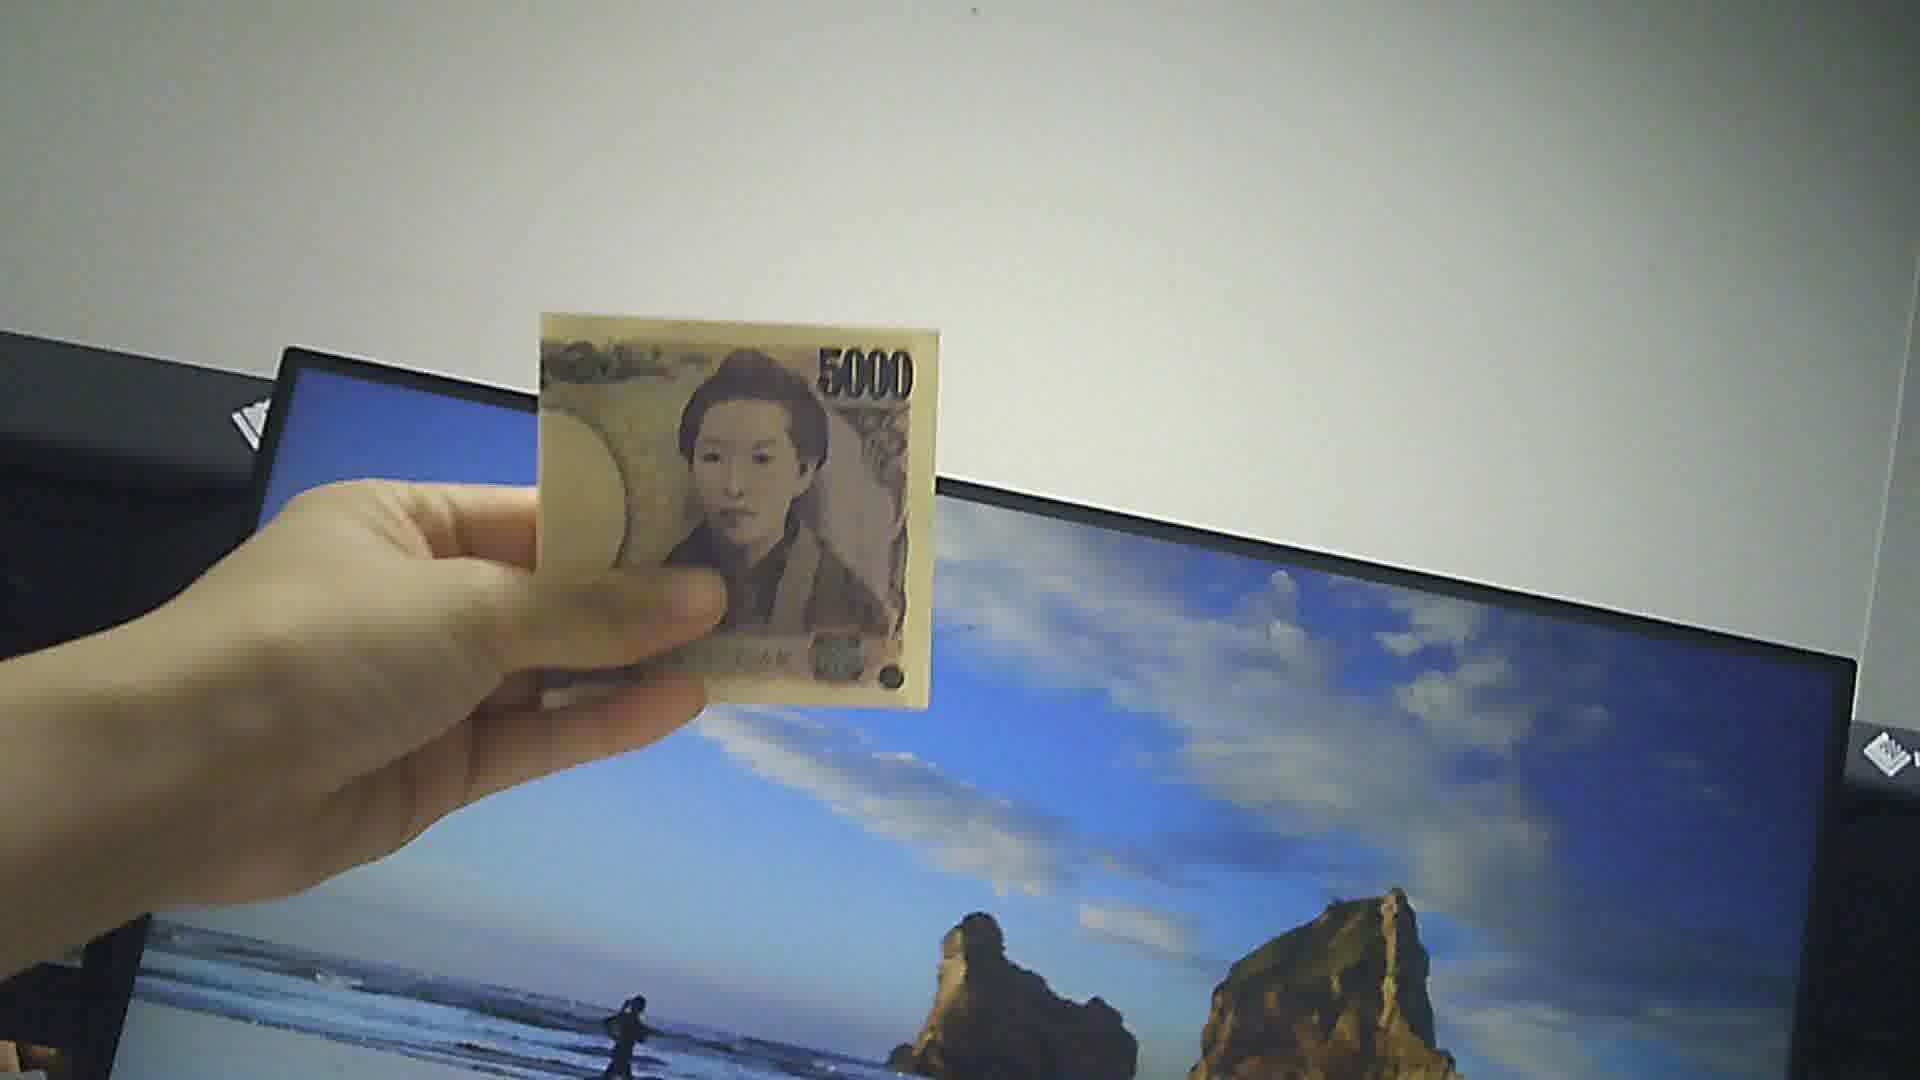5,000 Yen: (512, 293, 948, 716)
